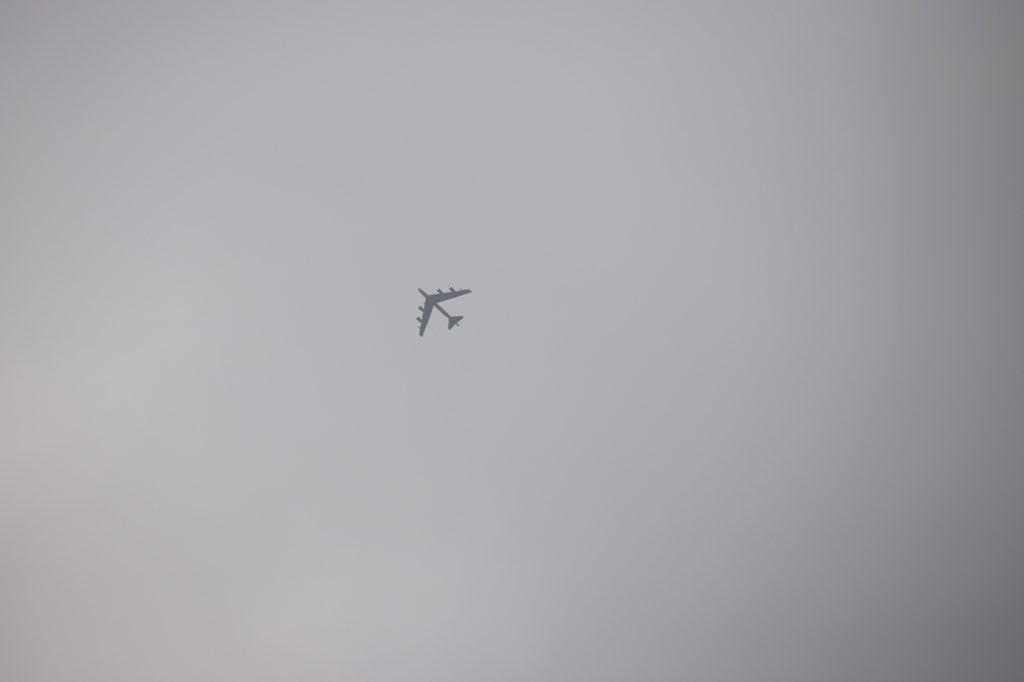B52: (416, 287, 473, 338)
